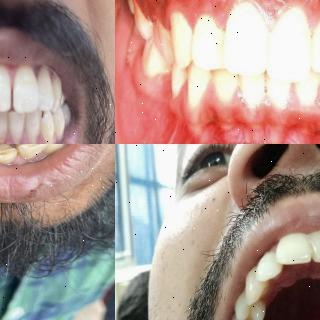Gum Swelling: (166, 80, 320, 124), (163, 0, 320, 31)
calculus: (39, 124, 57, 144), (11, 130, 25, 144), (11, 144, 35, 148), (0, 144, 12, 152), (0, 136, 8, 144)
maligned: (280, 237, 314, 274), (256, 251, 284, 287), (307, 228, 320, 271), (40, 112, 55, 144)
plaque: (204, 26, 232, 70), (167, 6, 191, 54), (148, 14, 172, 52), (257, 72, 277, 106), (129, 0, 151, 30), (228, 74, 248, 100)
stains: (0, 144, 17, 153), (19, 144, 41, 147)
